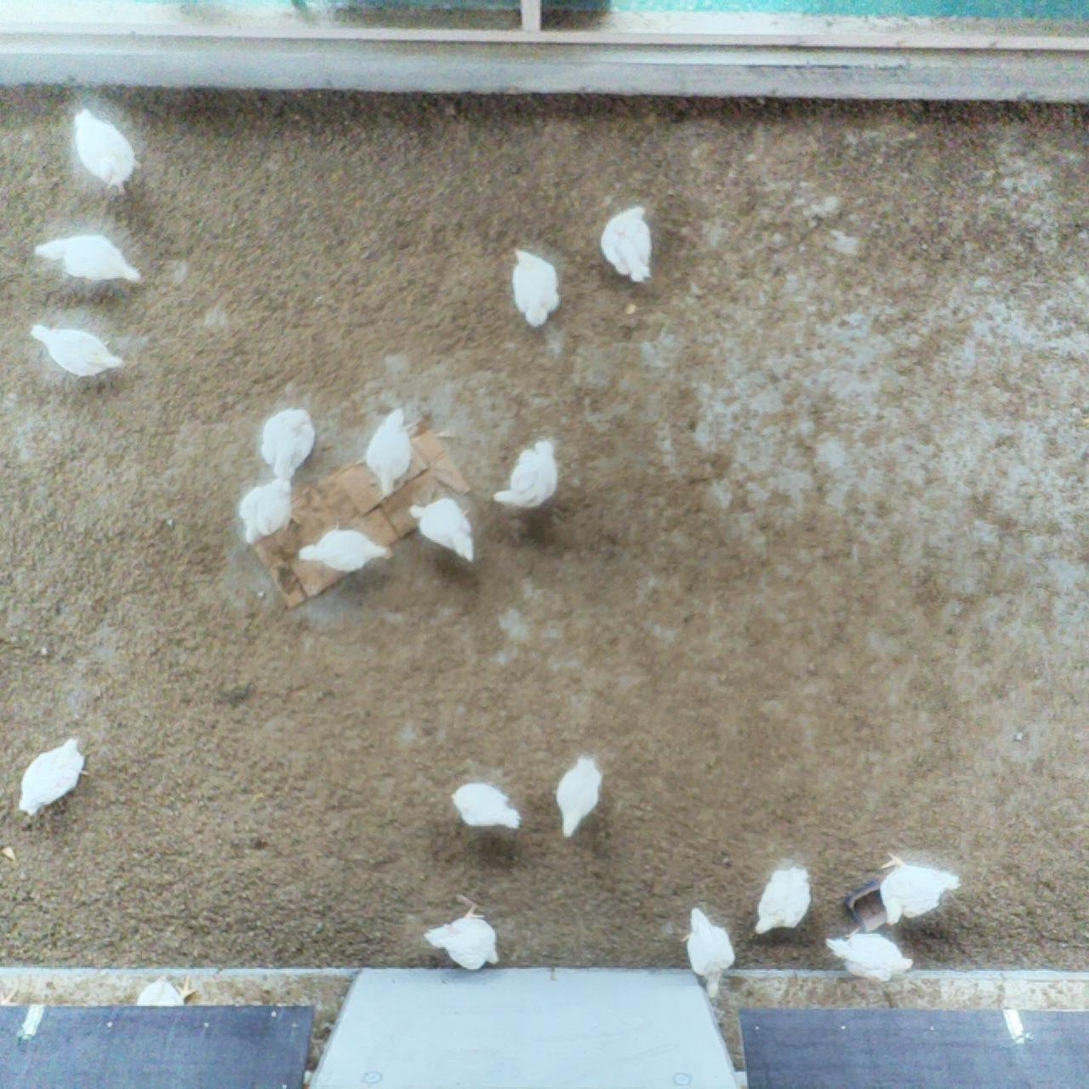chicken: (878, 851, 961, 930), (70, 107, 143, 196), (16, 736, 91, 822), (489, 433, 564, 510), (34, 234, 142, 286), (681, 899, 738, 996), (425, 901, 498, 975), (28, 323, 124, 379), (824, 929, 915, 986), (407, 494, 479, 565), (296, 523, 388, 575), (238, 472, 299, 549), (508, 245, 563, 330), (756, 862, 816, 939), (258, 405, 317, 482), (601, 205, 658, 284), (366, 406, 412, 500), (556, 752, 604, 838), (448, 783, 524, 832)
